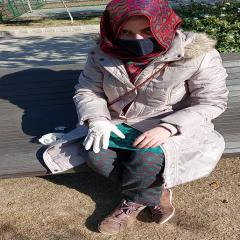gloved: (80, 120, 122, 152)
not-gloved: (130, 126, 171, 149)
